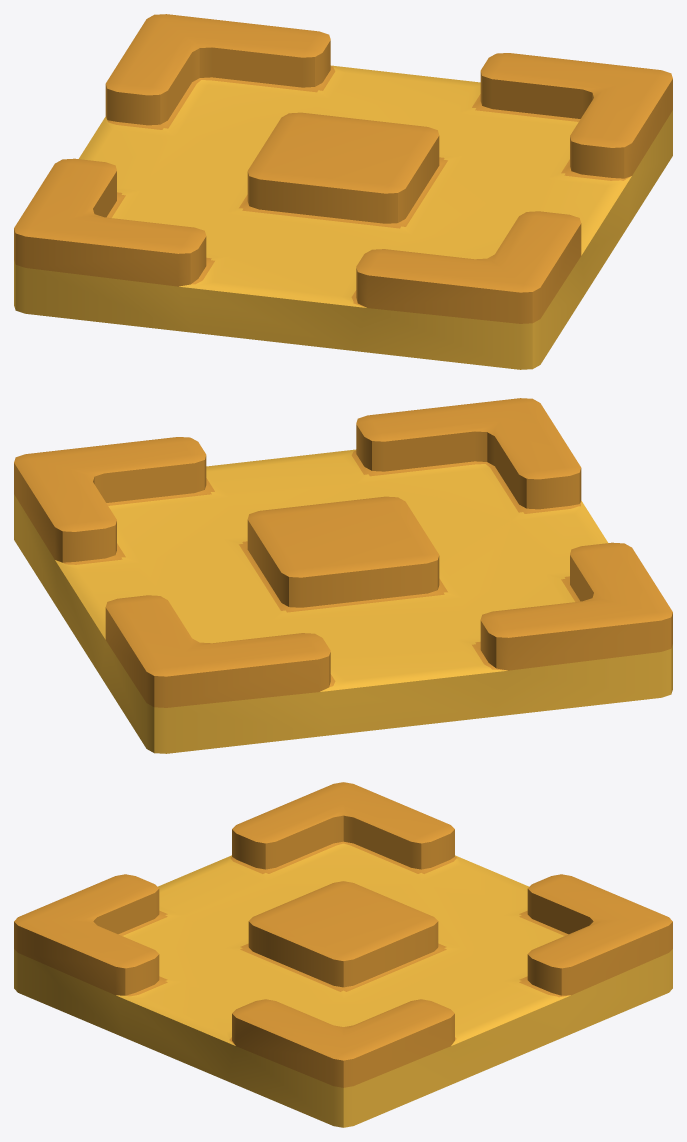
Rendered from Tile_.fbx.
The picture shows the model from 3 angles, top to bottom: view 1: azimuth 30°, elevation 25°; view 2: azimuth 150°, elevation 25°; view 3: azimuth 270°, elevation 25°; orthographic projection. The views are drawn at different scales.
Visible parts, largest first — view 1: Cube; view 2: Cube; view 3: Cube.
Boxes of the visible parts, x1=… form: Cube: x1=14, y1=14, x2=672, y2=369; Cube: x1=14, y1=398, x2=672, y2=753; Cube: x1=14, y1=782, x2=672, y2=1127.
Bounding box in the file's own units: 278 × 32.53 × 278.
